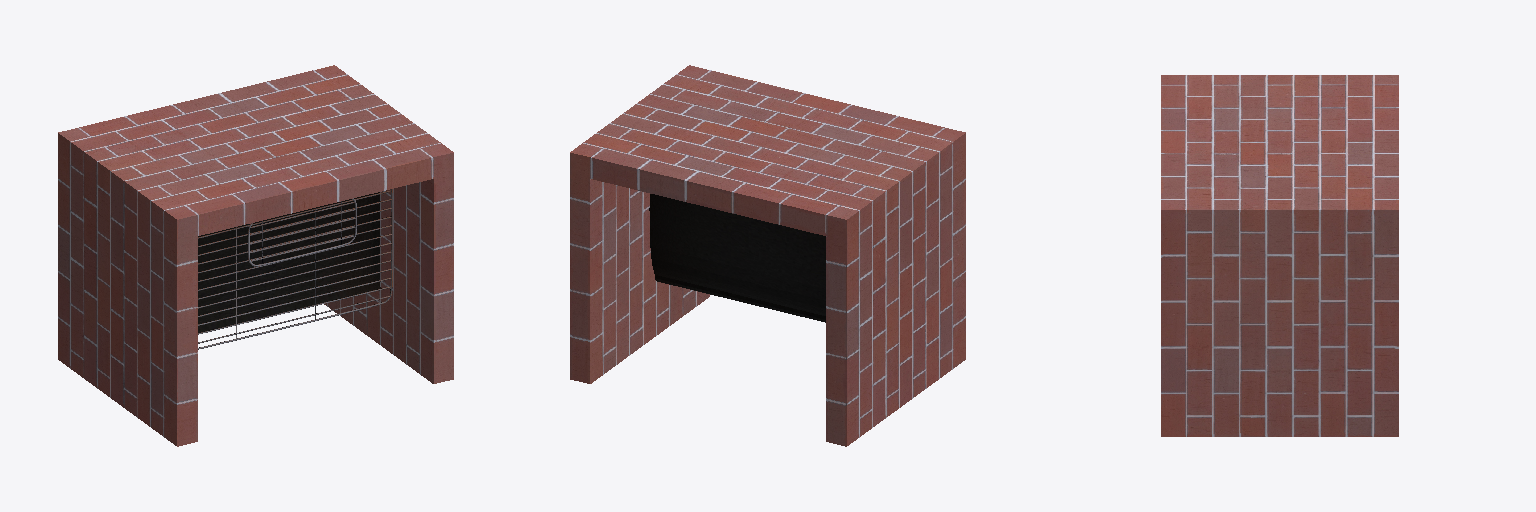
3 renders of one model, left to right at view 1: azimuth 30°, elevation 25°; view 2: azimuth 150°, elevation 25°; view 3: azimuth 270°, elevation 25°, orthographic.
Parts seen in each view (by area): view 1: Brick, 14094_Brick_BBQ_Grill_SG; view 2: Brick, 14094_Brick_BBQ_Grill_SG; view 3: Brick.
Part boxes in pixels (bbox=[...]): Brick: bbox=[58, 65, 453, 446]; 14094_Brick_BBQ_Grill_SG: bbox=[198, 189, 392, 349]; Brick: bbox=[570, 65, 965, 446]; 14094_Brick_BBQ_Grill_SG: bbox=[649, 194, 825, 322]; Brick: bbox=[1161, 75, 1398, 436].
Bounding box in the file's own units: 108 × 84.79 × 80.81.
Materials: 2 (2 with a texture image).